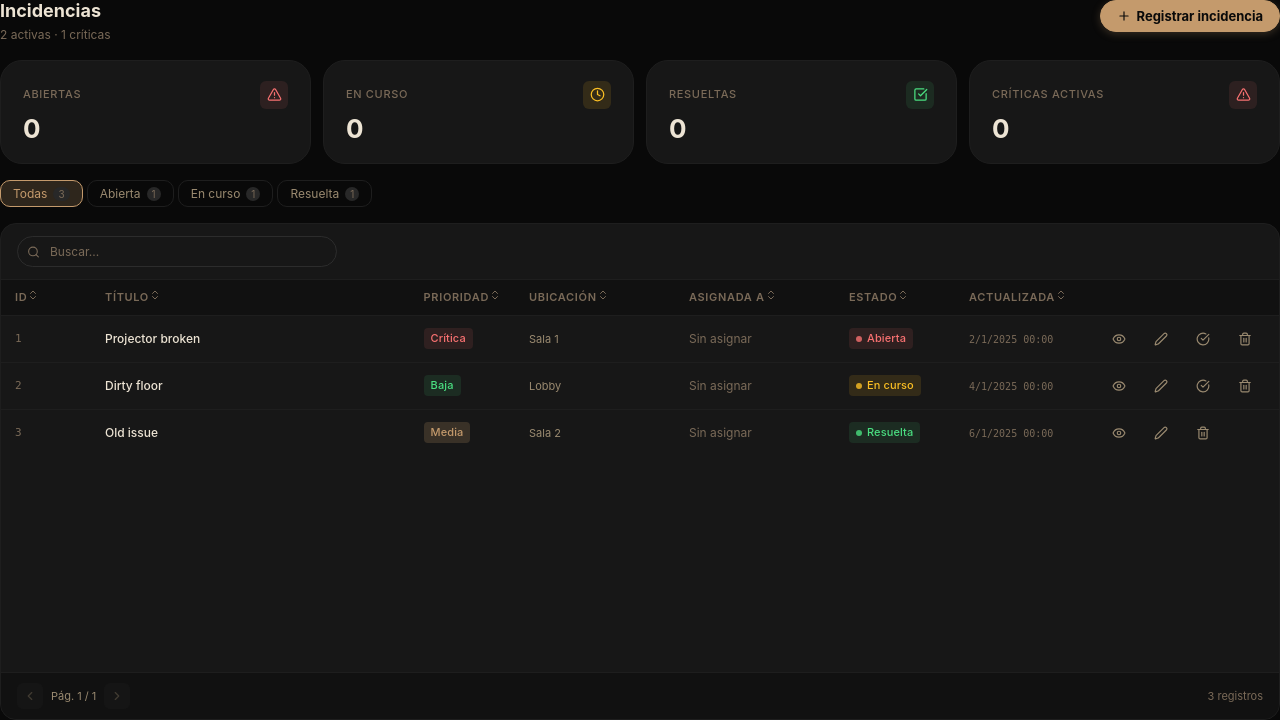
Scenario: IncidentsPage › detail shows description for incident with desc
Step 1. Click the text "Projector broken" → (153, 338), box top-left (105, 331), bottom-right (200, 346)
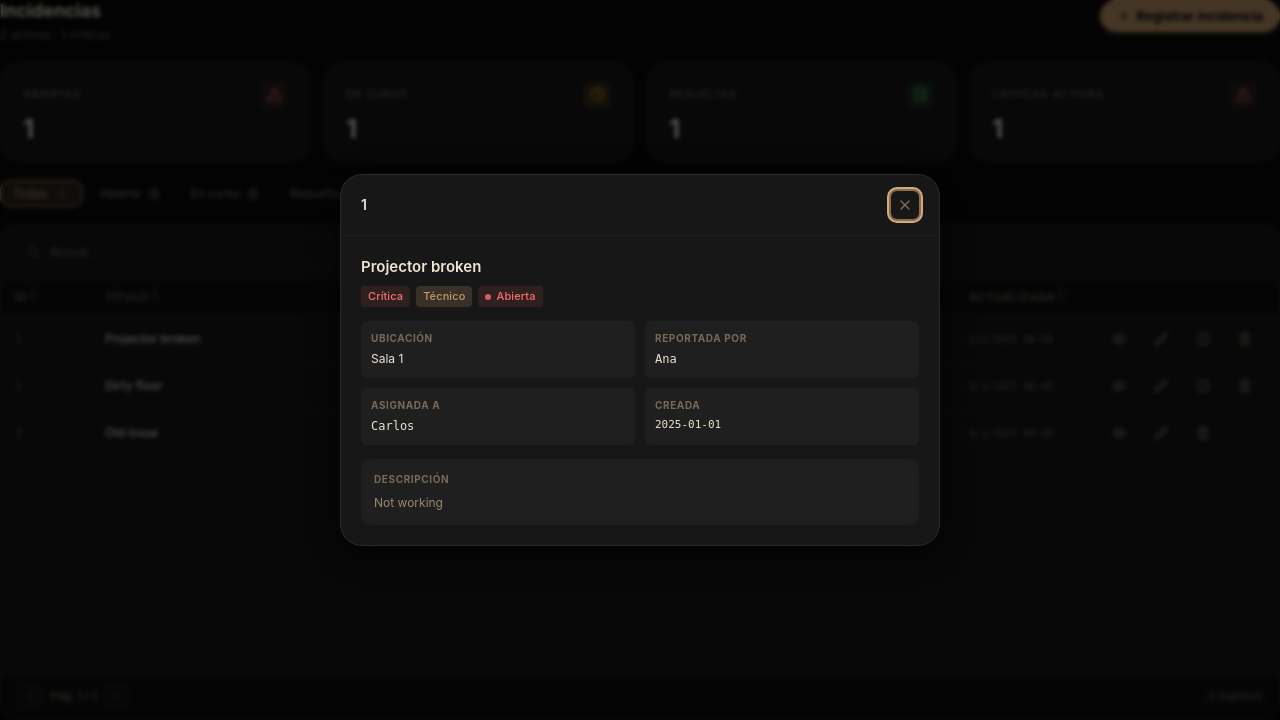
Expected: the text "Not working" is shown, top-left (374, 495), bottom-right (443, 510)
